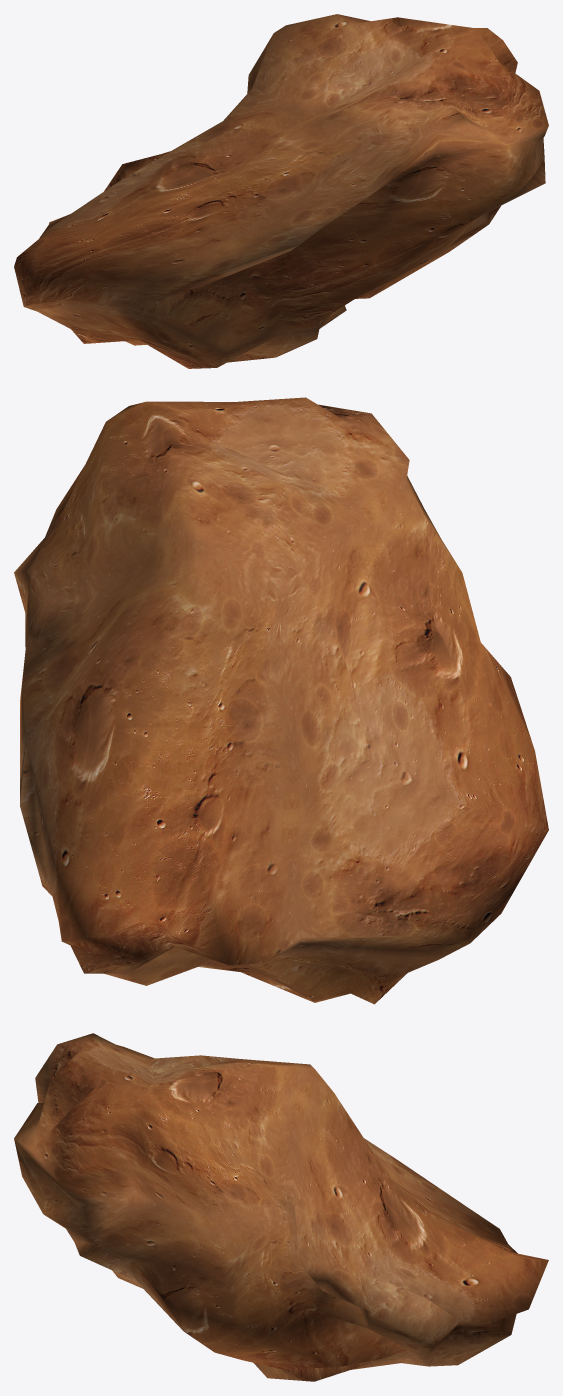
File: Asteroid_05_L2.FBX
The picture shows the model from 3 angles, top to bottom: view 1: azimuth 30°, elevation 25°; view 2: azimuth 150°, elevation 25°; view 3: azimuth 270°, elevation 25°; orthographic projection. The views are drawn at different scales.
Visible parts, largest first — view 1: Asteroid; view 2: Asteroid; view 3: Asteroid.
Part boxes in pixels (bbox=[...]): Asteroid: bbox=[14, 14, 548, 368]; Asteroid: bbox=[14, 397, 548, 1004]; Asteroid: bbox=[14, 1033, 548, 1381].
Bounding box in the file's own units: 2.98 × 2.15 × 3.
